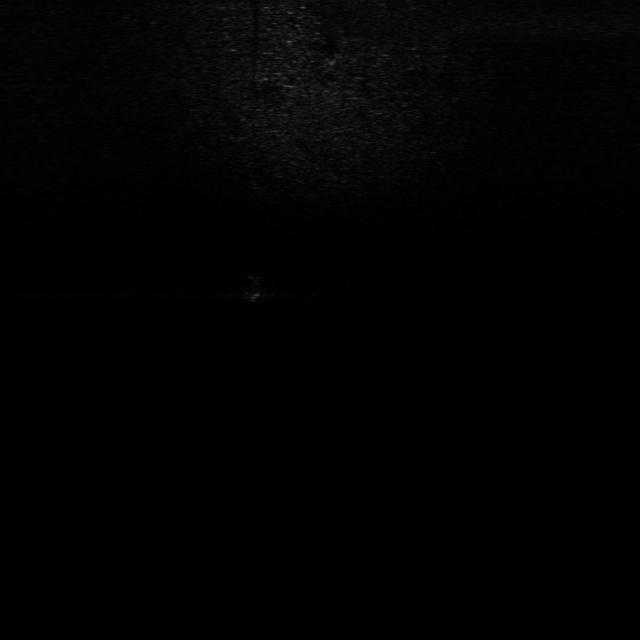human body: (224, 269, 270, 306)
